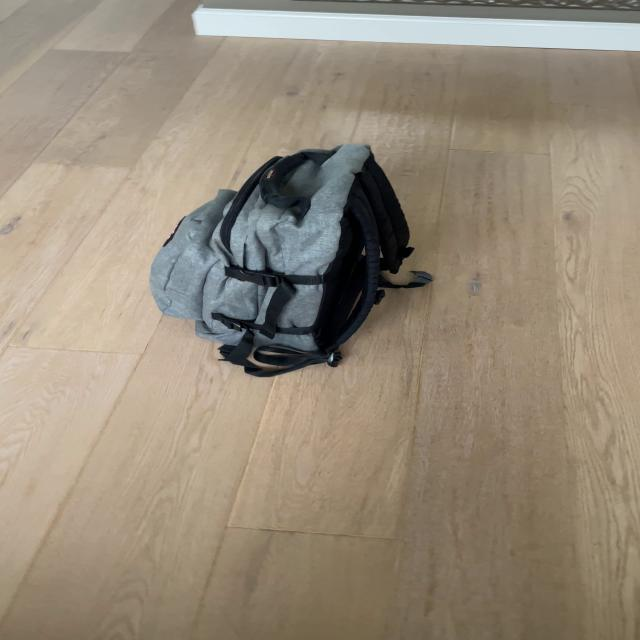backpack: (137, 132, 421, 382)
